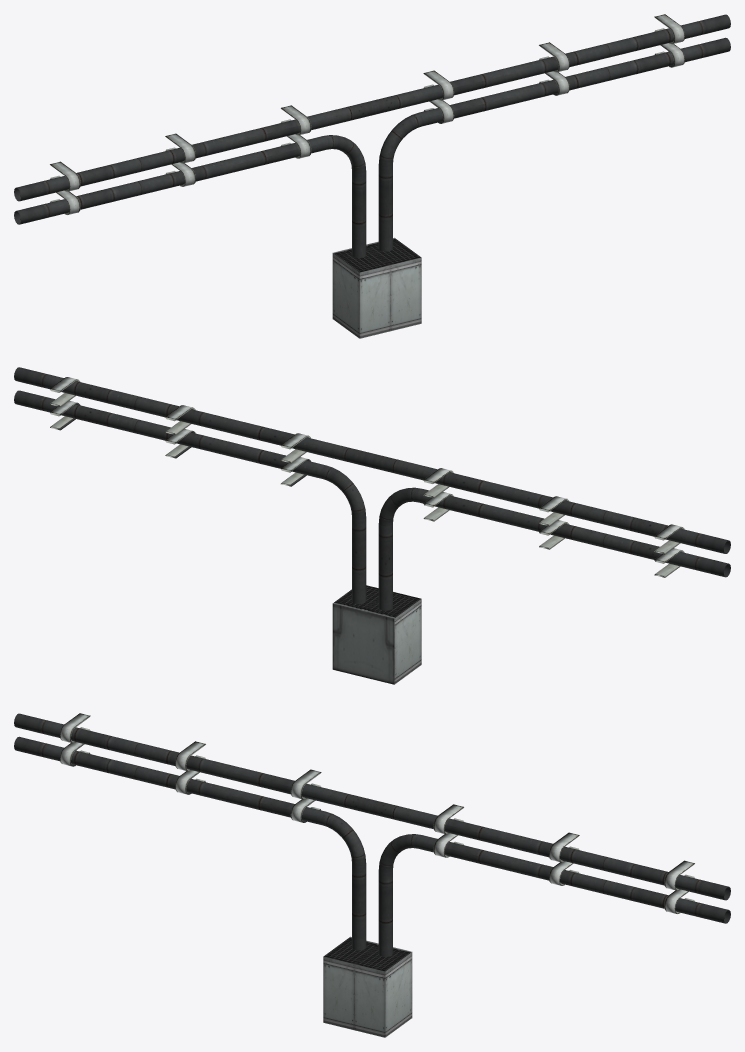
The model's file is fiacaointerna2.fbx.
The picture shows the model from 3 angles, top to bottom: view 1: azimuth 30°, elevation 25°; view 2: azimuth 150°, elevation 25°; view 3: azimuth 330°, elevation 25°; orthographic projection.
Parts seen in each view (by area): view 1: Cylinder.001; view 2: Cylinder.001; view 3: Cylinder.001.
Boxes of the visible parts, x1=… form: Cylinder.001: x1=14, y1=14, x2=730, y2=338; Cylinder.001: x1=14, y1=367, x2=730, y2=684; Cylinder.001: x1=14, y1=713, x2=730, y2=1037.
Size of the model in its own units: 9.23 by 2.7 by 0.7493.
